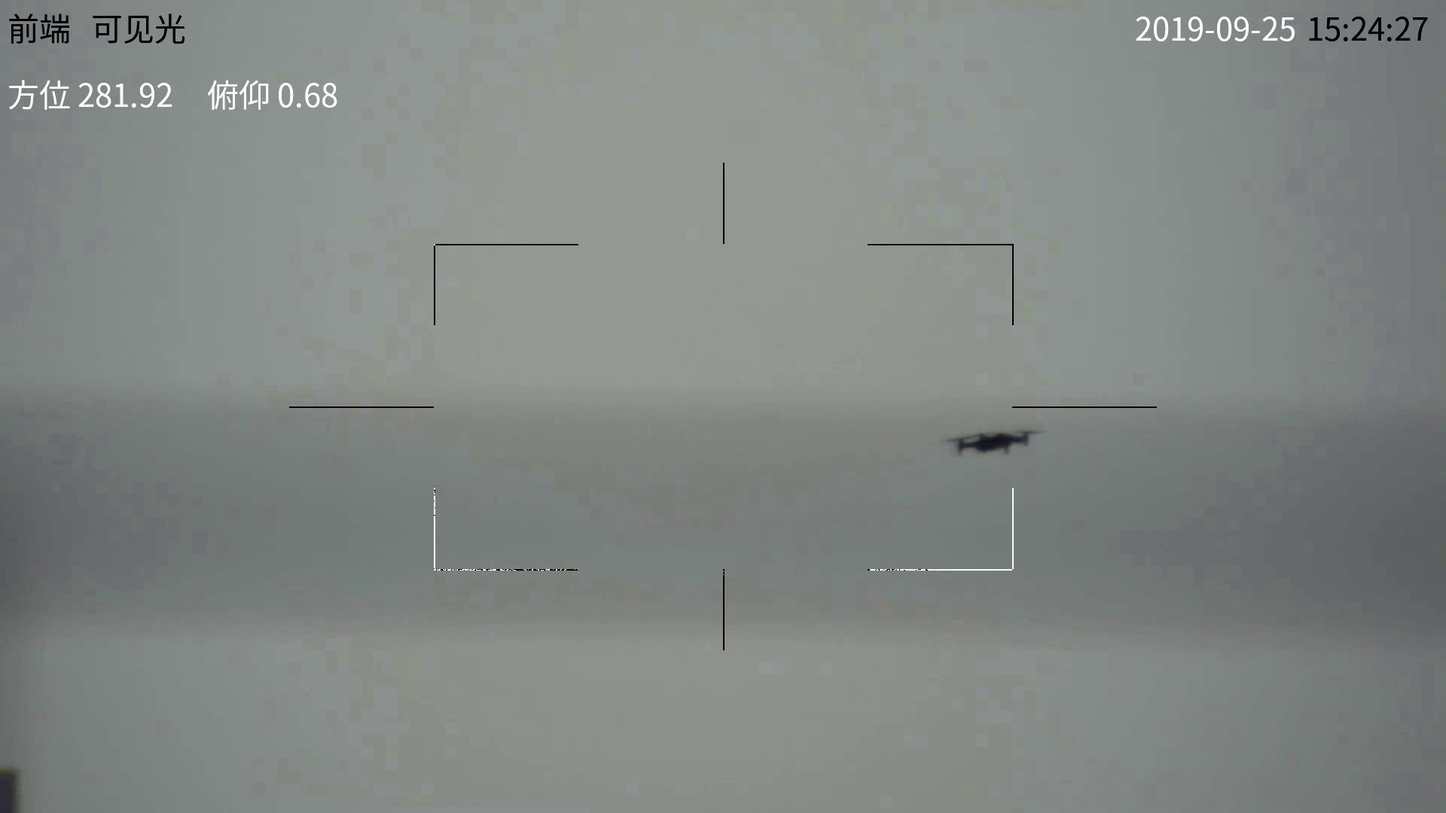drone: (951, 429, 1028, 458)
